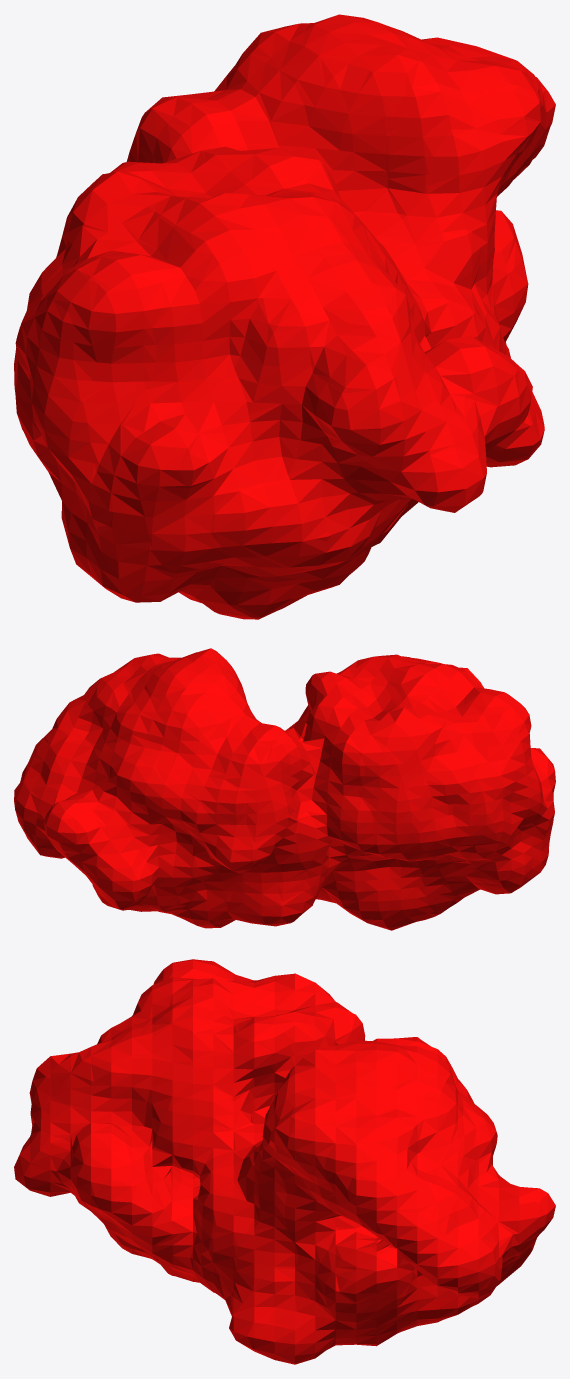
File: gshA_coarse.dae
The picture shows the model from 3 angles, top to bottom: view 1: azimuth 30°, elevation 25°; view 2: azimuth 150°, elevation 25°; view 3: azimuth 270°, elevation 25°; orthographic projection. The views are drawn at different scales.
Parts seen in each view (by area): view 1: gshA; view 2: gshA; view 3: gshA.
Part boxes in pixels (x1=…): gshA: x1=14, y1=14, x2=555, y2=619; gshA: x1=14, y1=648, x2=555, y2=930; gshA: x1=14, y1=959, x2=555, y2=1364.
Size of the model in its own units: 102 by 63.36 by 104.
